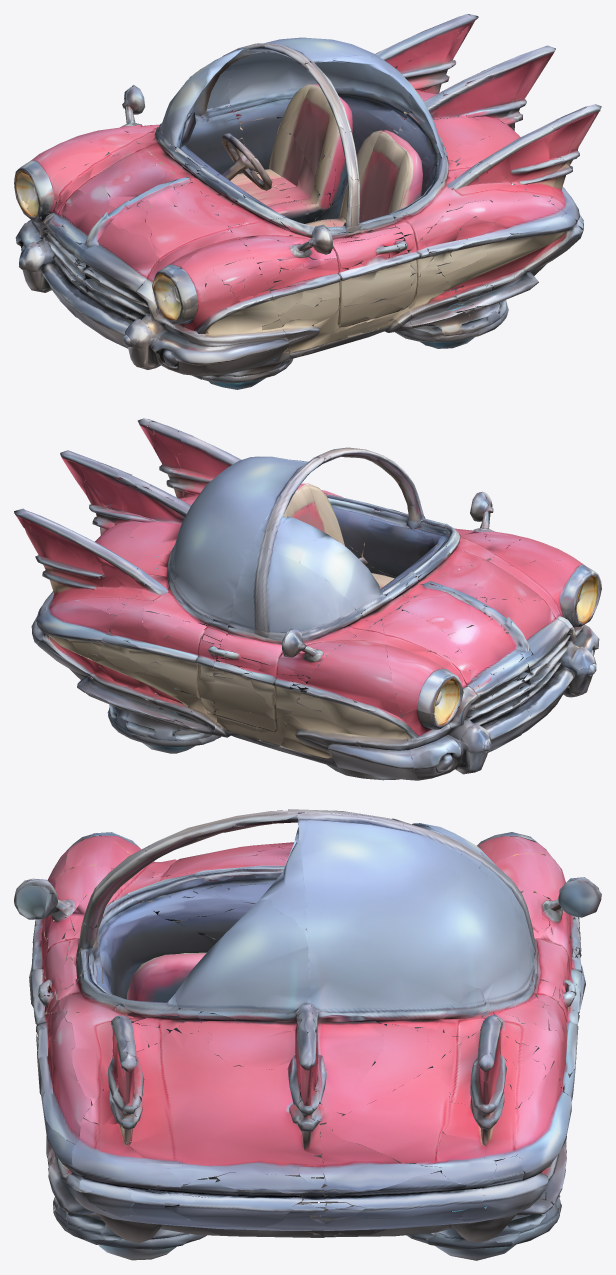
3 renders of one model, top to bottom at view 1: azimuth 30°, elevation 25°; view 2: azimuth 150°, elevation 25°; view 3: azimuth 270°, elevation 25°, orthographic. The views are drawn at different scales.
Parts seen in each view (by area): view 1: tripo_node_dbbf2931-0b58-4c99-a197-0375a2ed5556; view 2: tripo_node_dbbf2931-0b58-4c99-a197-0375a2ed5556; view 3: tripo_node_dbbf2931-0b58-4c99-a197-0375a2ed5556.
Part boxes in pixels (bbox=[...]): tripo_node_dbbf2931-0b58-4c99-a197-0375a2ed5556: bbox=[14, 14, 601, 389]; tripo_node_dbbf2931-0b58-4c99-a197-0375a2ed5556: bbox=[14, 418, 601, 780]; tripo_node_dbbf2931-0b58-4c99-a197-0375a2ed5556: bbox=[14, 809, 601, 1260].
Size of the model in its own units: 0.9817 by 0.5129 by 0.716.
Materials: 1 (1 with a texture image).
